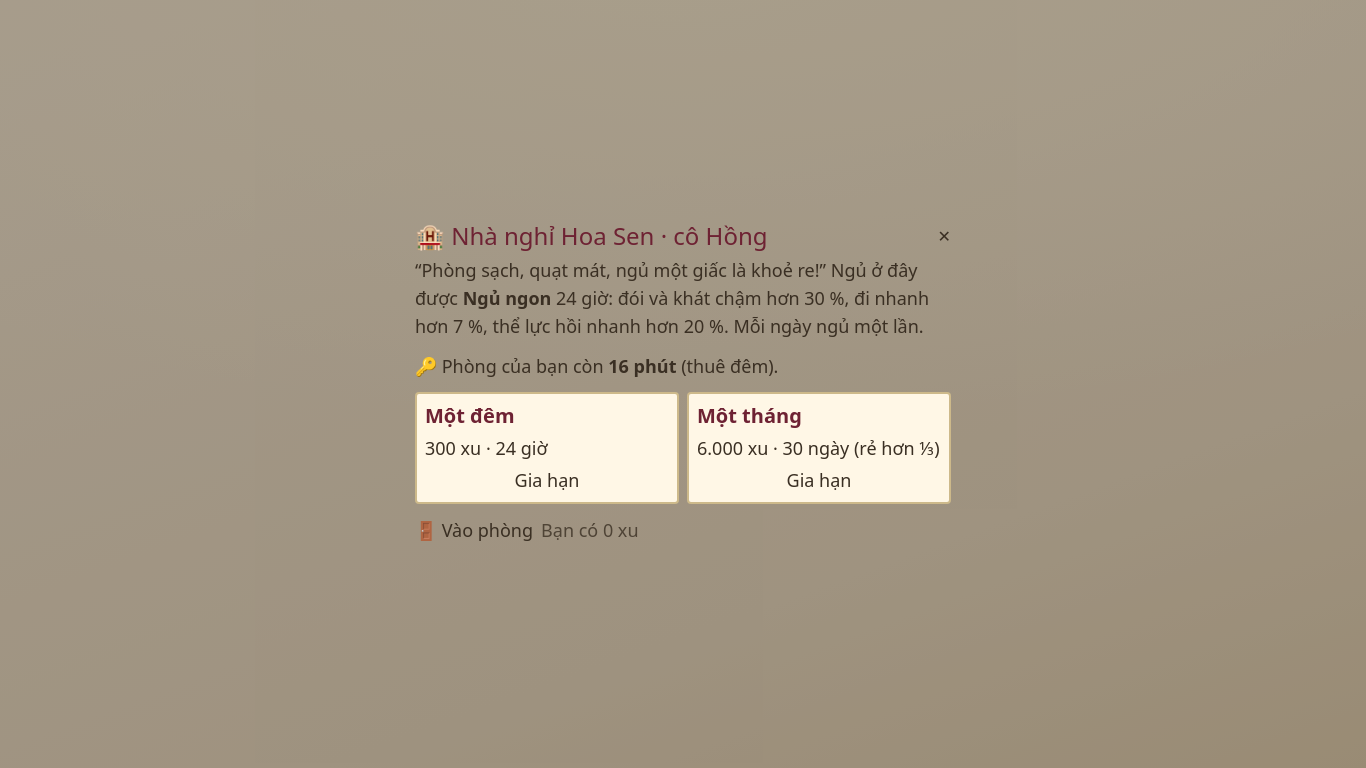
MotelModal › shows the server's refusal
The width and height of the screenshot is (1366, 768).
Click the button "🚪 Vào phòng". click: (474,530)
box: left=415, top=516, right=533, bottom=544
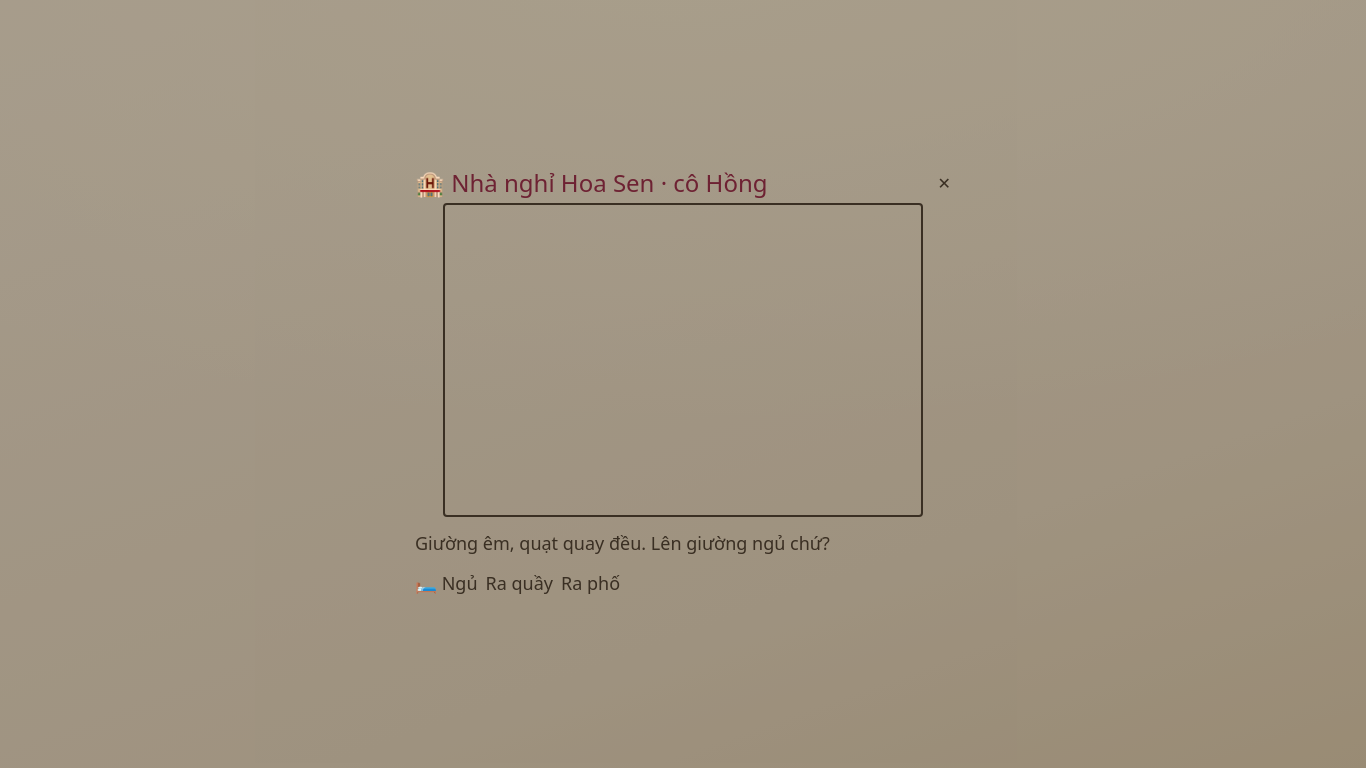
Click the button "🛏️ Ngủ". click: (446,583)
box: left=415, top=569, right=478, bottom=597
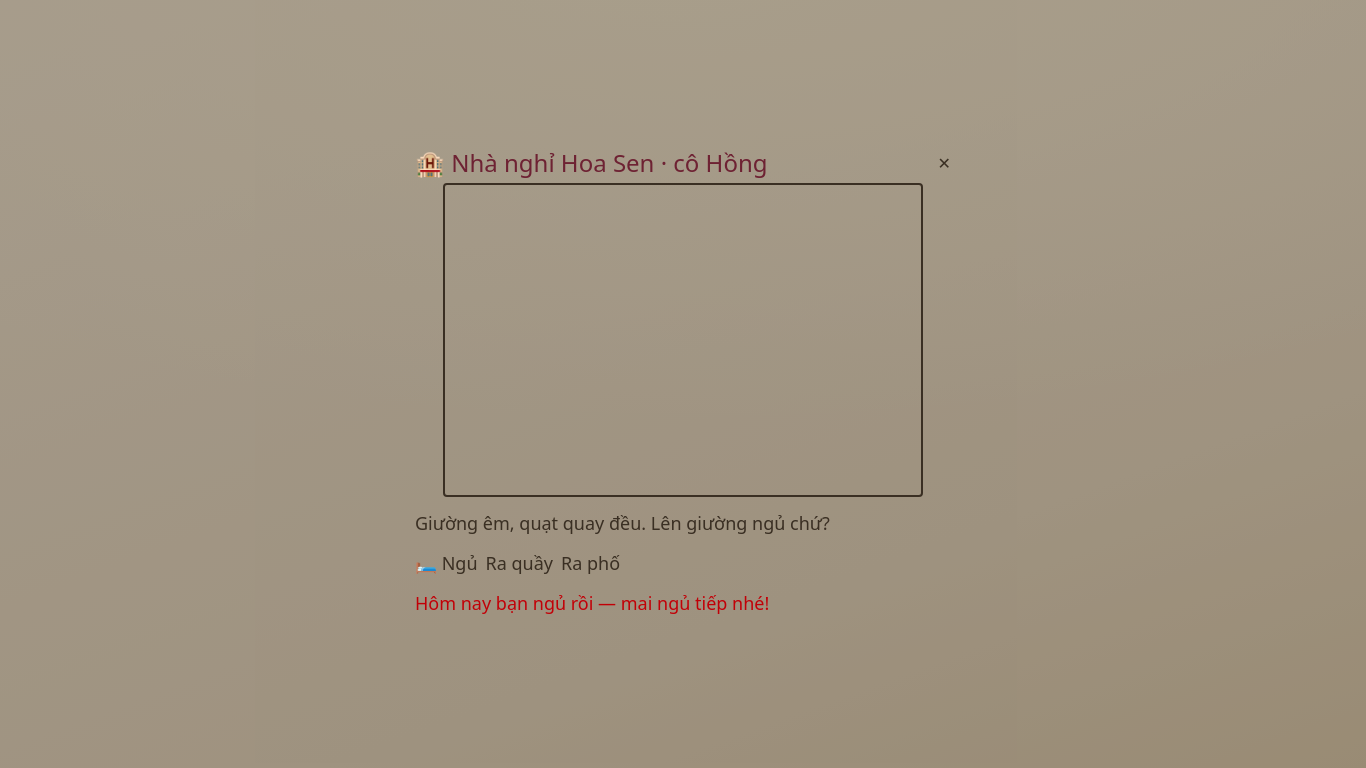
Expected: the message shows "ngủ rồi", left=415, top=591, right=769, bottom=615
